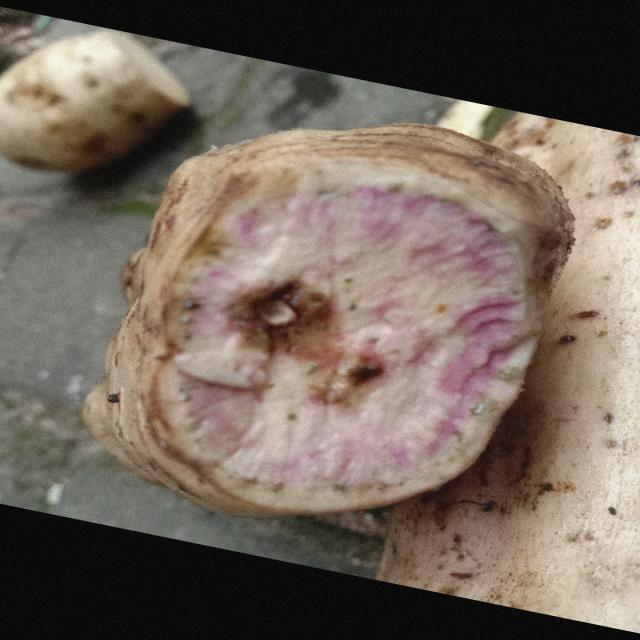Sick Sweet Potato_Tuber Rot: (158, 165, 540, 514)
